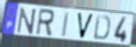4: (113, 15, 129, 44)
D: (92, 14, 112, 42)
I: (61, 11, 70, 39)
N: (16, 7, 37, 35)
R: (35, 8, 56, 38)
V: (76, 12, 95, 41)
